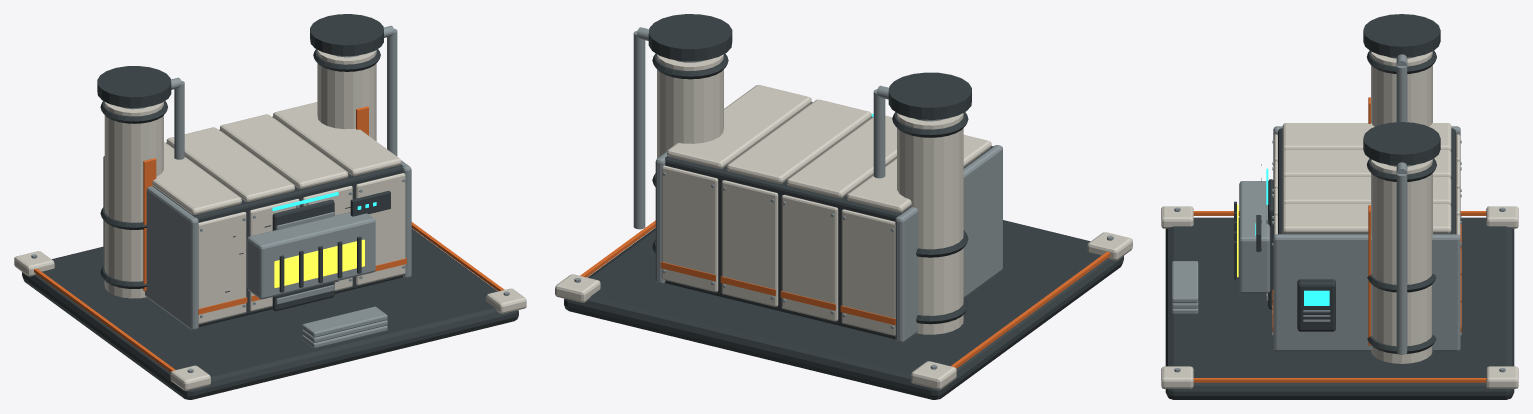
The model's file is SM_ReactorComponentsPlant_Body.fbx.
3 renders of one model, left to right at view 1: azimuth 30°, elevation 25°; view 2: azimuth 150°, elevation 25°; view 3: azimuth 270°, elevation 25°, orthographic. The views are drawn at different scales.
Parts seen in each view (by area): view 1: SM_ReactorComponentsPlant_Body; view 2: SM_ReactorComponentsPlant_Body; view 3: SM_ReactorComponentsPlant_Body.
Boxes of the visible parts, <box> form: SM_ReactorComponentsPlant_Body: <box>14,14,526,399</box>; SM_ReactorComponentsPlant_Body: <box>555,14,1132,399</box>; SM_ReactorComponentsPlant_Body: <box>1161,14,1518,399</box>.
Size of the model in its own units: 532 by 462 by 333.
